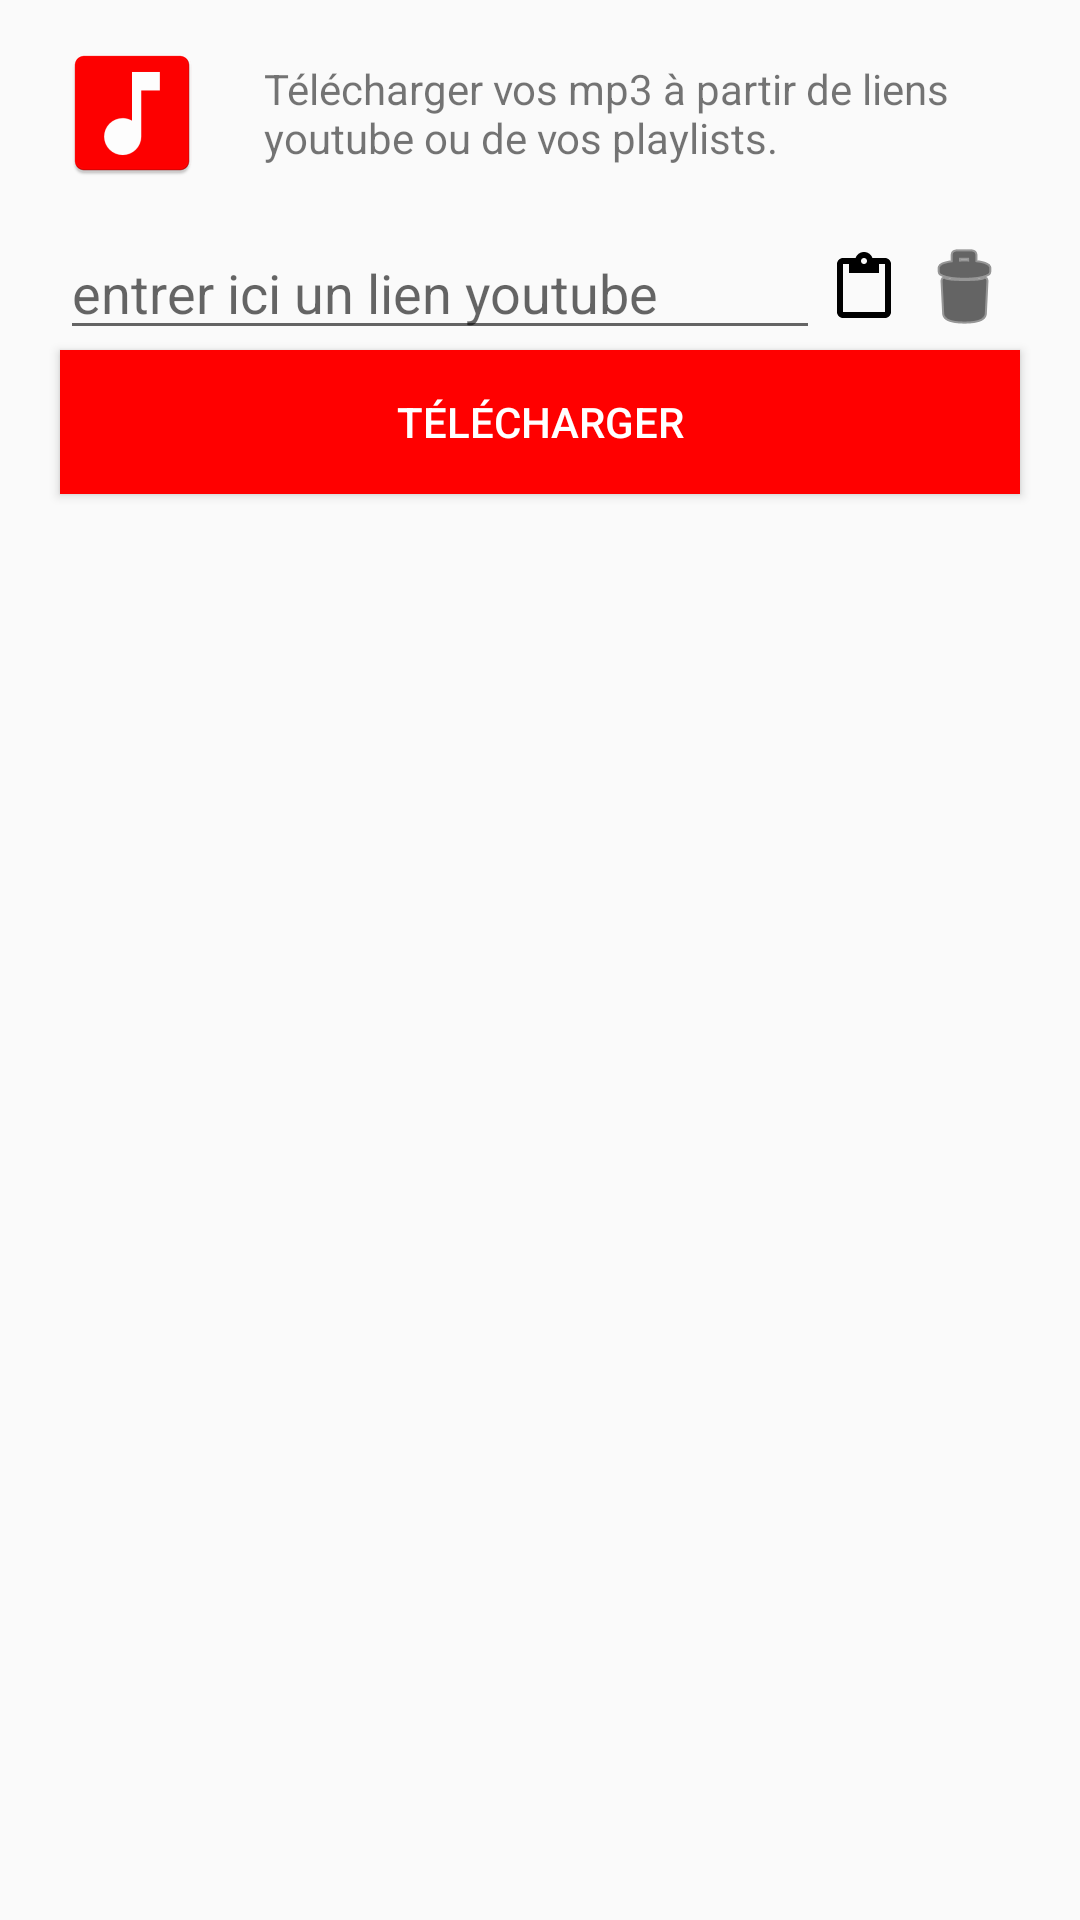

Icon bounding boxes for this 1080px x 1920px phone screenshot, format (x1, y1, x2, y2):
delete: (937, 249, 992, 324)
